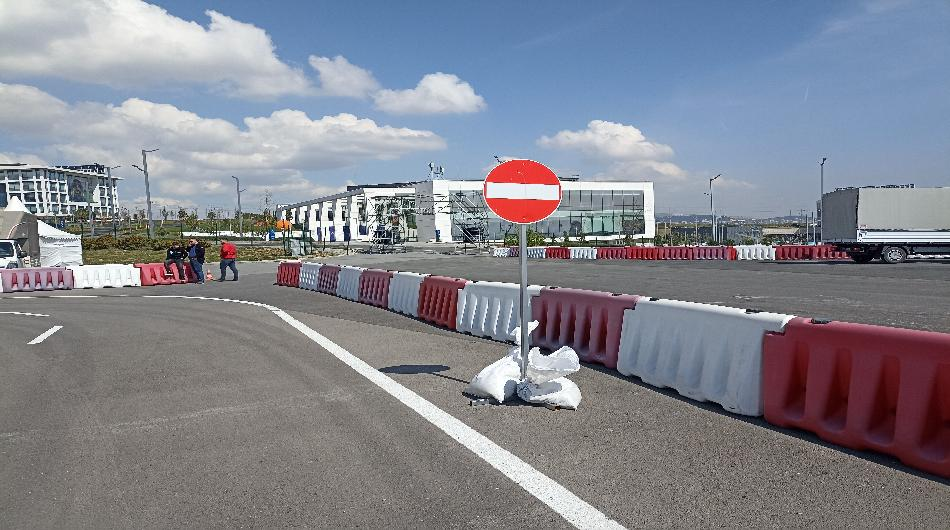girilmez: (482, 158, 563, 227)
